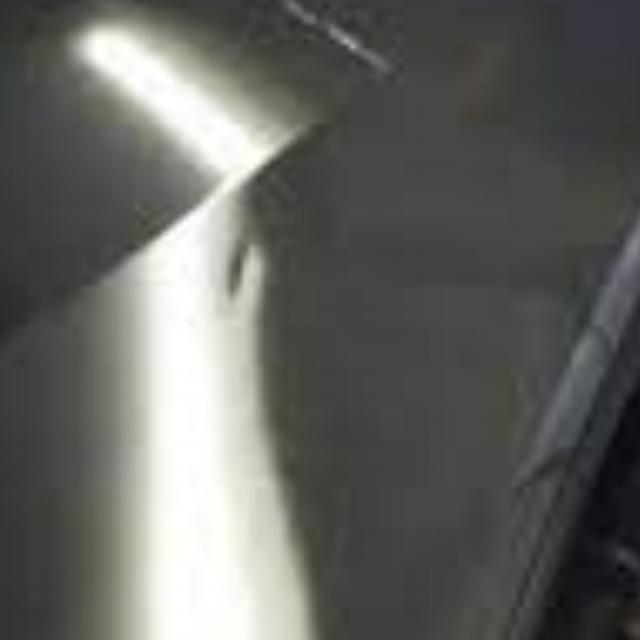dents: (218, 197, 292, 355)
